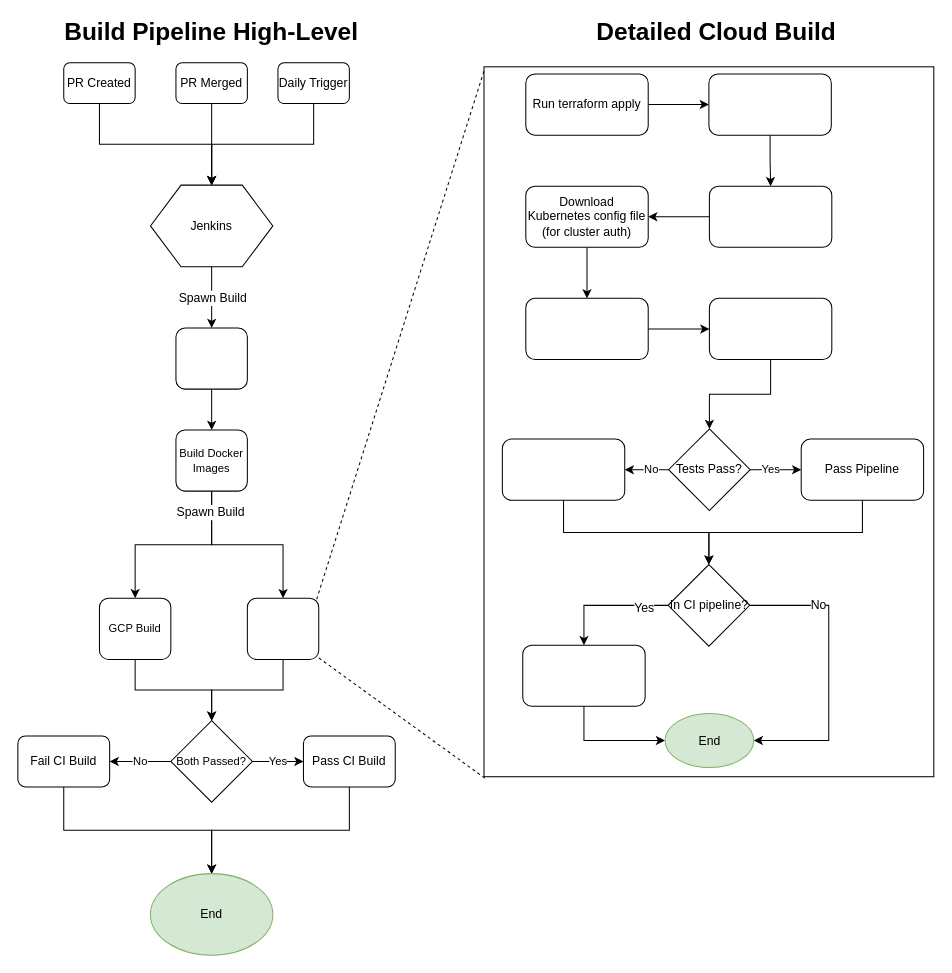
The diagram is 952 pixels wide and 973 high, and some of its shapes have lost their labels. The shapes that lost their labels are listed below. From the top down, each one's centre as x and y in pixels, then its label:
At point 769,104: "Tag docker images with cloud-specific container registry metadata".
At point 770,216: "Push docker images to container registry".
At point 586,328: "Process helm charts and install them via kubectl".
At point 770,328: "Run integration tests".
At point 211,358: "Orchestration Build".
At point 563,469: "Fail Pipeline".
At point 282,628: "Azure Build".
At point 583,675: "Destroy Environment".
